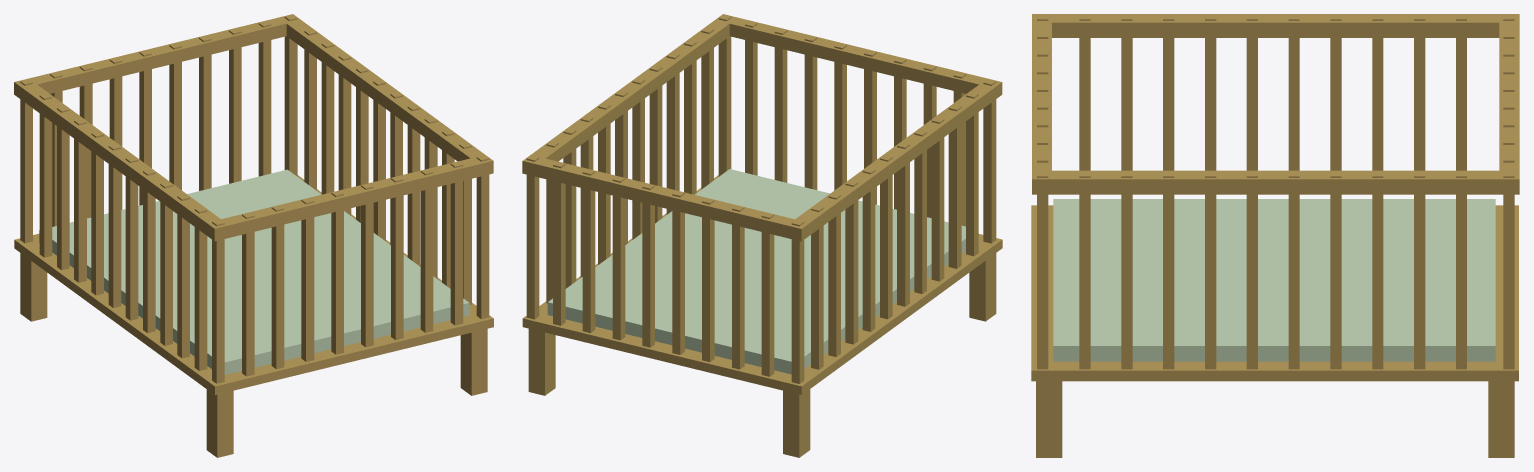
Rendered from Crib01.fbx.
The picture shows the model from 3 angles, left to right: view 1: azimuth 30°, elevation 25°; view 2: azimuth 150°, elevation 25°; view 3: azimuth 270°, elevation 25°; orthographic projection. The views are drawn at different scales.
Parts seen in each view (by area): view 1: Cube; view 2: Cube; view 3: Cube.
Boxes of the visible parts, <box> form: Cube: <box>14,14,493,457</box>; Cube: <box>522,14,1002,457</box>; Cube: <box>1031,14,1519,457</box>.
Bounding box in the file's own units: 162 × 130 × 203.
